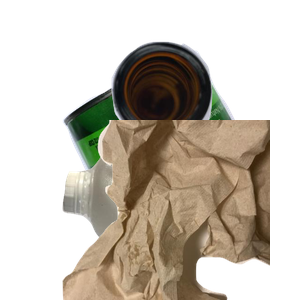glass: (109, 39, 300, 175)
metal: (60, 48, 300, 228)
plastic: (60, 120, 300, 300)
trash: (60, 120, 300, 300)
